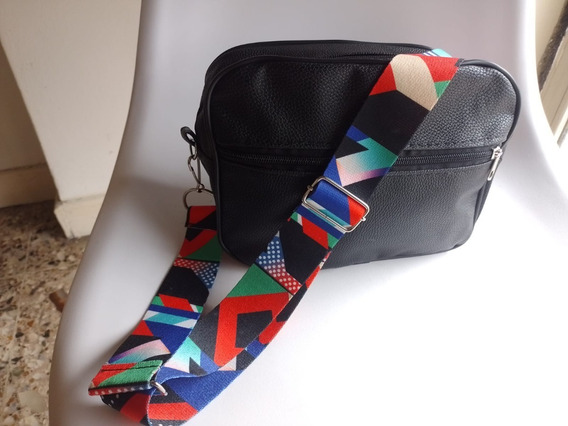cartera: (181, 35, 521, 272)
